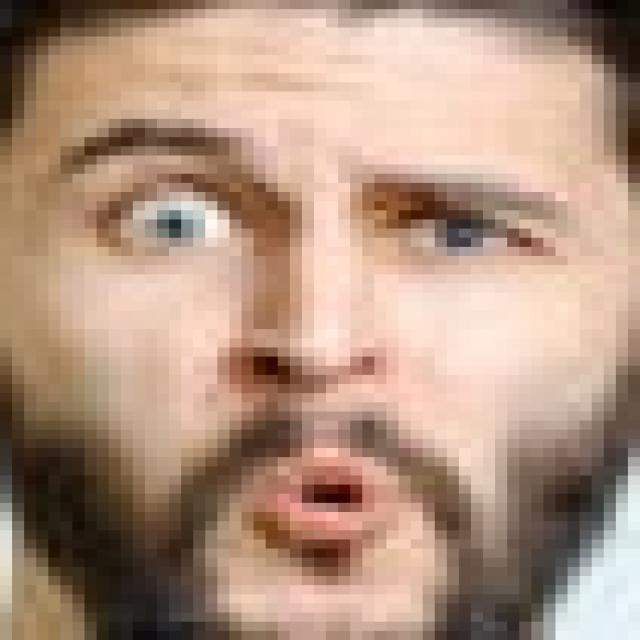Anxiety: (12, 2, 640, 631)
